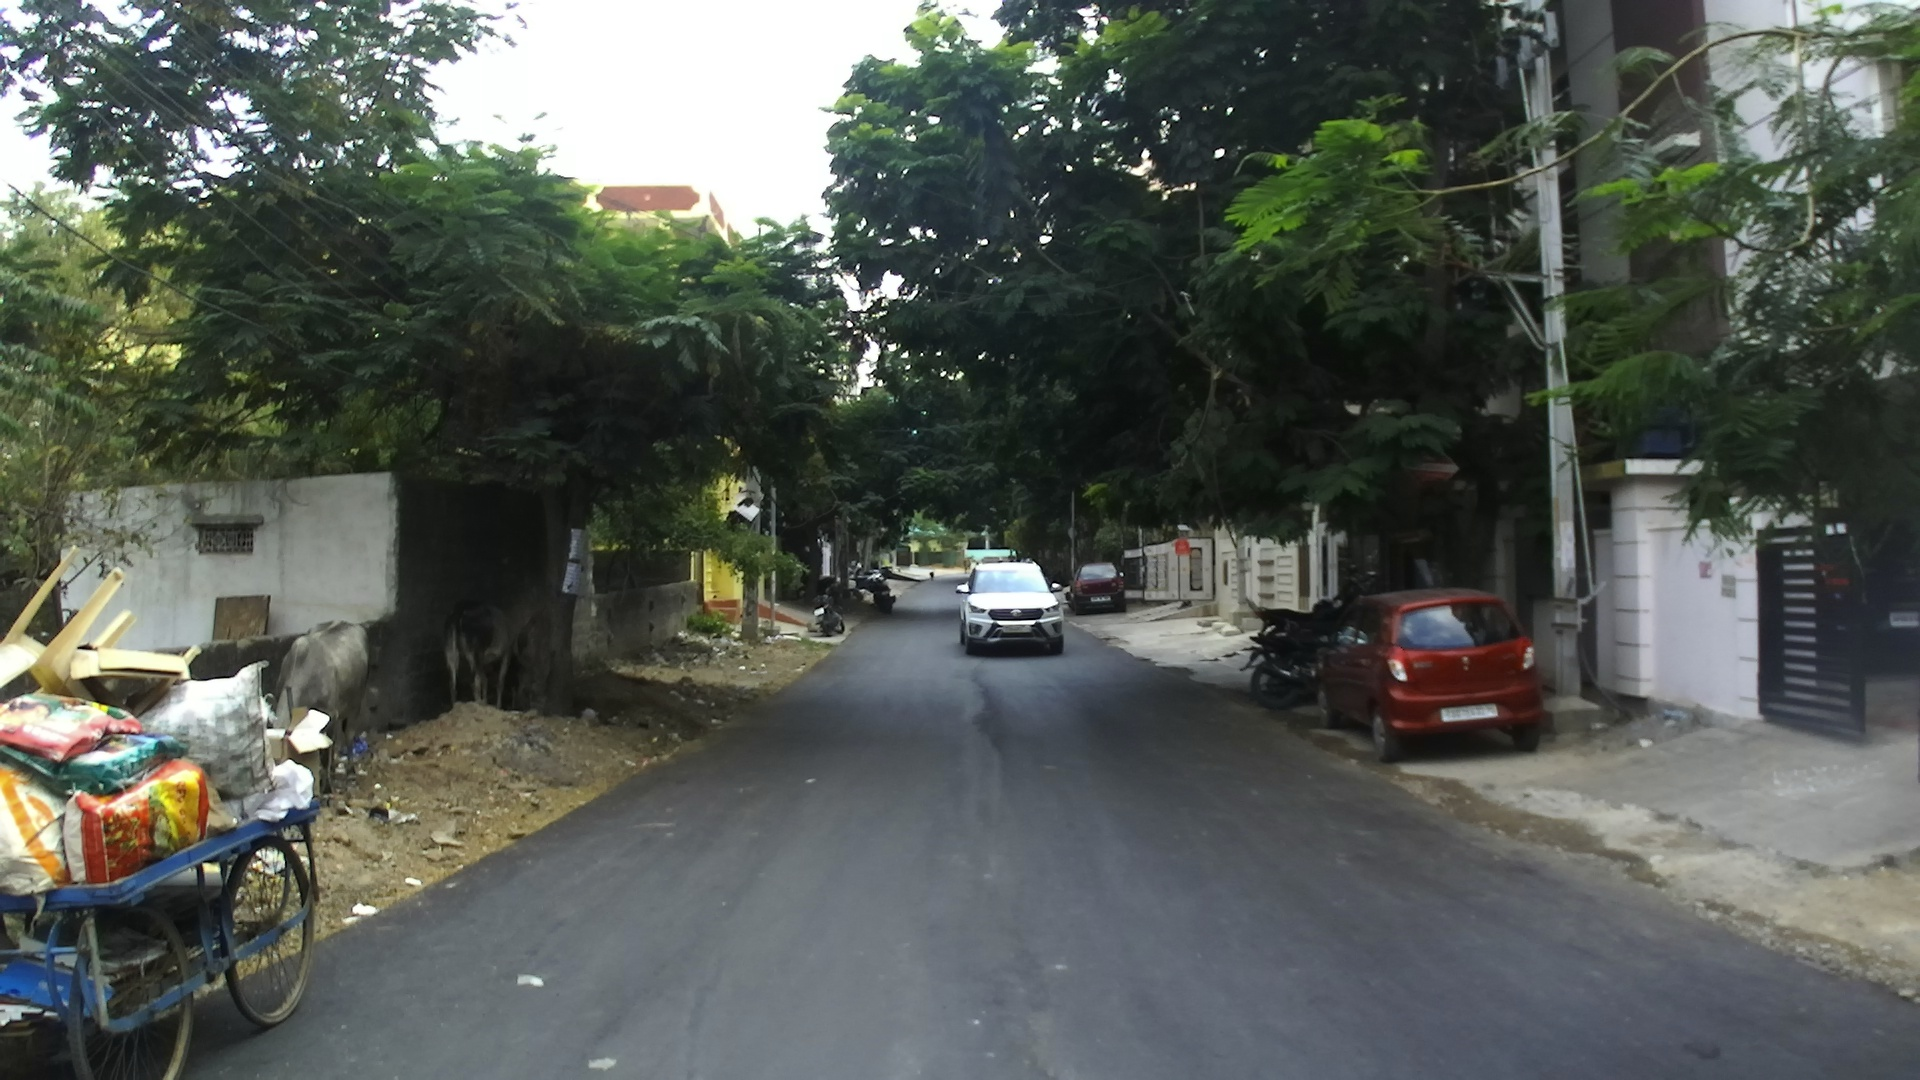vehicle: (0, 556, 361, 1068), (1313, 585, 1549, 756), (1242, 597, 1352, 705), (959, 560, 1067, 657), (1069, 563, 1125, 612), (862, 568, 895, 611)
